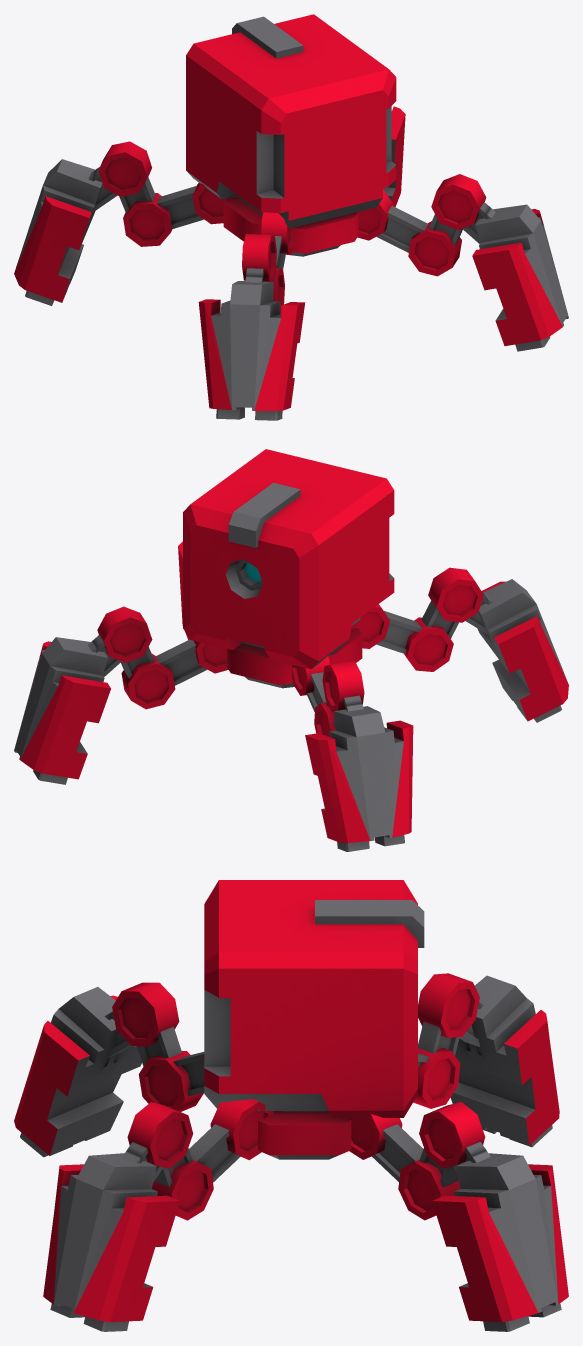
Rendered from Monster1_Attack5.obj.
3 renders of one model, top to bottom at view 1: azimuth 30°, elevation 25°; view 2: azimuth 150°, elevation 25°; view 3: azimuth 270°, elevation 25°, orthographic. The views are drawn at different scales.
Visible parts, largest first — view 1: Box006, Object021, Object017, Object025, Object020, Object028, Object027, Object019, Object018, Object026, Object024, Object013 (+1 smaller); view 2: Box006, Object025, Object013, Object021, Object016, Object024, Object023, Object015, Object014, Object022, Object028, Object026 (+1 smaller); view 3: Box006, Object013, Object017, Object021, Object025, Object018, Object024, Object016, Object020, Object028, Object023, Object014 (+4 smaller).
Part boxes in pixels (box(x1,y1,x2,y2)): Box006: box(186, 14, 396, 256); Object021: box(198, 281, 305, 420); Object017: box(472, 204, 568, 351); Object025: box(14, 159, 102, 305); Object020: box(431, 174, 495, 243); Object028: box(88, 141, 151, 211); Object027: box(119, 177, 172, 246); Object019: box(408, 214, 462, 276); Object018: box(357, 189, 428, 252); Object026: box(157, 183, 237, 229); Object024: box(242, 234, 276, 282); Object013: box(383, 106, 405, 207); Box006: box(183, 449, 394, 688); Object025: box(305, 706, 413, 851); Object013: box(14, 637, 110, 784); Object021: box(477, 579, 568, 722); Object016: box(88, 606, 152, 676); Object024: box(428, 567, 492, 634); Object023: box(404, 600, 458, 671); Object015: box(120, 647, 175, 709); Object014: box(155, 639, 228, 685); Object022: box(351, 604, 422, 653); Object028: box(322, 661, 364, 711); Object026: box(292, 656, 329, 712); Box006: box(204, 880, 424, 1159); Object013: box(432, 1153, 568, 1331); Object017: box(43, 1153, 179, 1331); Object021: box(14, 987, 141, 1157); Object025: box(450, 975, 559, 1147); Object018: box(189, 1099, 273, 1182); Object024: box(105, 982, 179, 1057); Object016: box(419, 1102, 490, 1180); Object020: box(122, 1102, 193, 1182); Object028: box(418, 973, 483, 1046); Object023: box(137, 1026, 203, 1111); Object014: box(346, 1114, 423, 1181).
Bounding box in the file's own units: 151 × 98.49 × 153.
